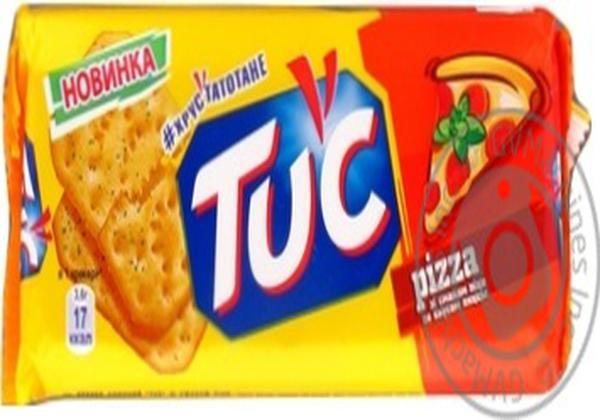crackers tuc: (22, 9, 562, 393)
